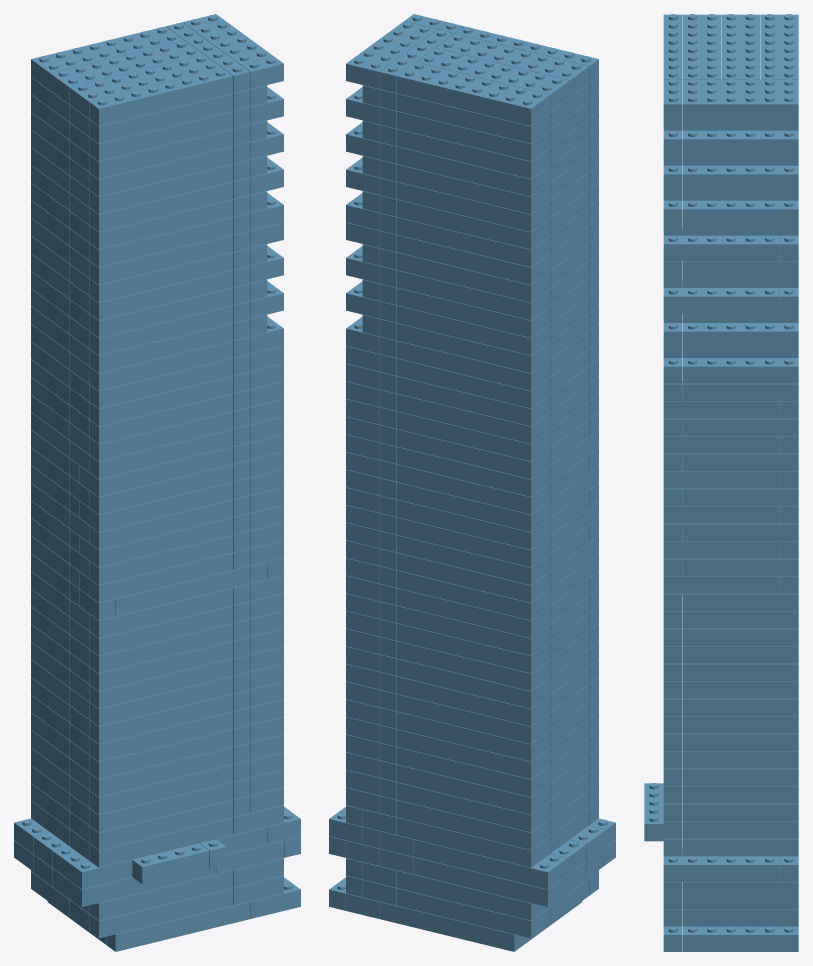
File: 161_guitar_L1.glb
The picture shows the model from 3 angles, left to right: view 1: azimuth 30°, elevation 25°; view 2: azimuth 150°, elevation 25°; view 3: azimuth 270°, elevation 25°; orthographic projection.
Size of the model in its own units: 12.98 by 48.13 by 7.98.
